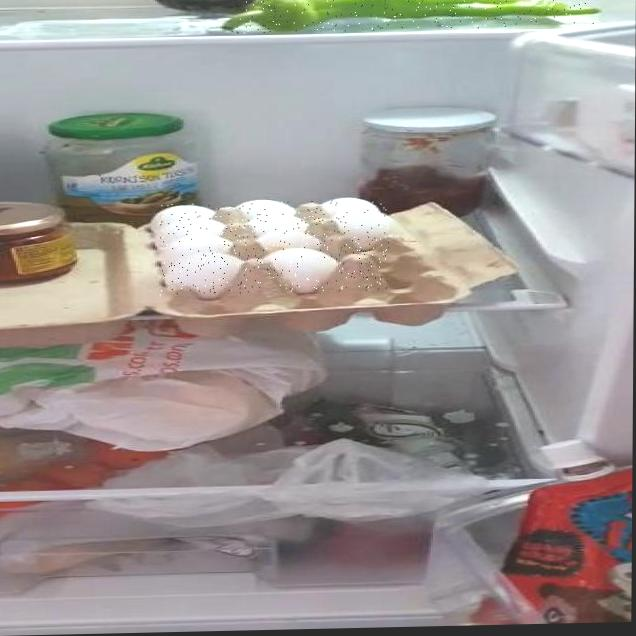eggs: (159, 199, 391, 296)
green chilies: (230, 0, 594, 34)
